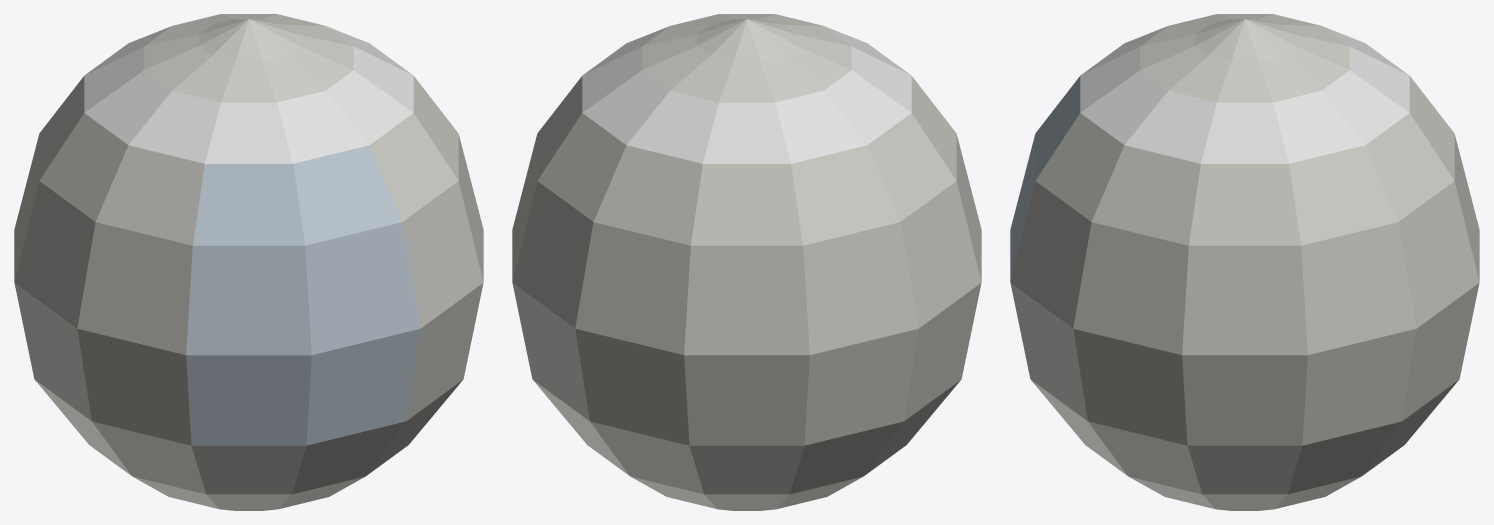
Rendered from pearl.gltf.
3 renders of one model, left to right at view 1: azimuth 30°, elevation 25°; view 2: azimuth 150°, elevation 25°; view 3: azimuth 270°, elevation 25°, orthographic.
Parts seen in each view (by area): view 1: pearl; view 2: pearl; view 3: pearl.
Part boxes in pixels (x1,y1,x2,y2): pearl: [14, 14, 483, 510]; pearl: [512, 14, 981, 510]; pearl: [1010, 14, 1479, 510].
Bounding box in the file's own units: 0.118 × 0.1365 × 0.118.
